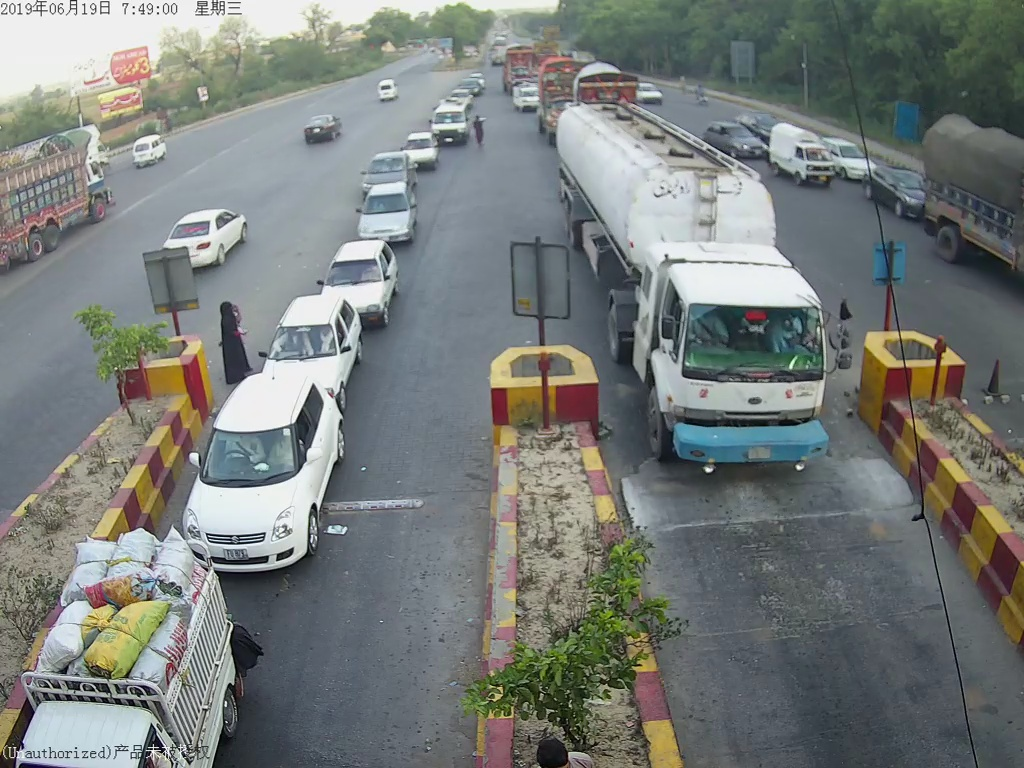Cat-1: (173, 370, 350, 570), (259, 294, 364, 403), (318, 237, 405, 326), (353, 180, 424, 245), (353, 151, 415, 193)
Cat-5: (552, 93, 853, 475)
